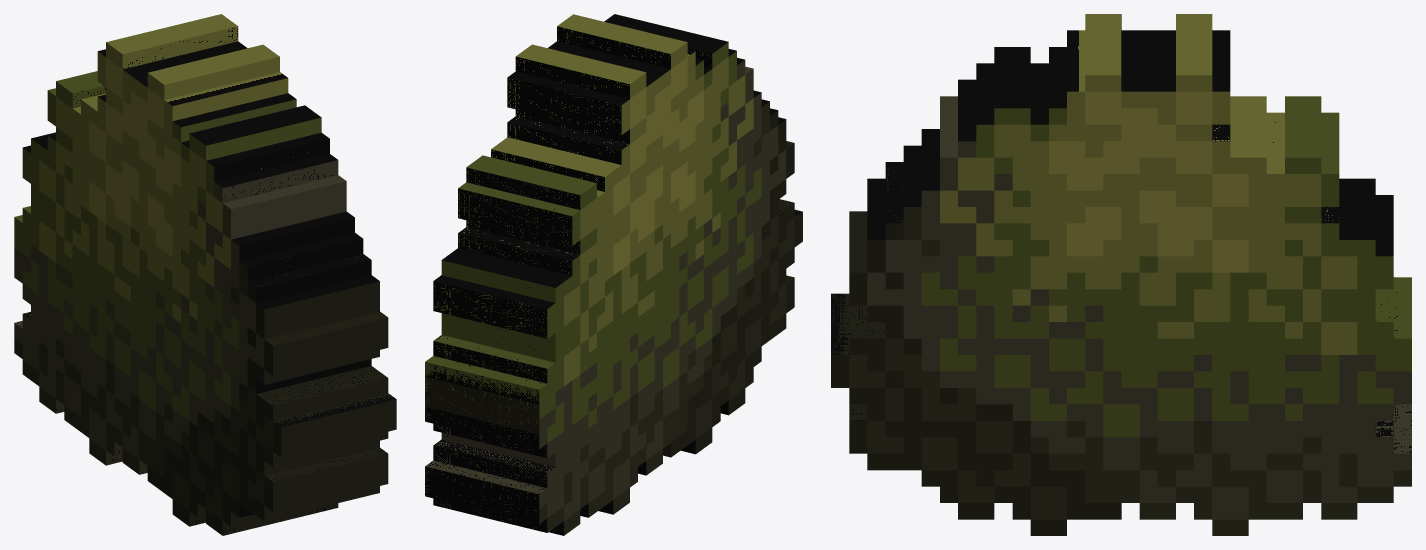
Rendered from bush.glb.
3 views of the same model, side by side, from view 1: azimuth 30°, elevation 25°; view 2: azimuth 150°, elevation 25°; view 3: azimuth 270°, elevation 25° (orthographic). The views are drawn at different scales.
Visible parts, largest first — view 1: bush; view 2: bush; view 3: bush.
Boxes of the visible parts, x1,y1,x2,y2 form: bush: [14, 14, 396, 535]; bush: [425, 14, 802, 535]; bush: [831, 14, 1411, 535].
Bounding box in the file's own units: 0.8 × 2.8 × 3.2.
1 material, 1 textured.
